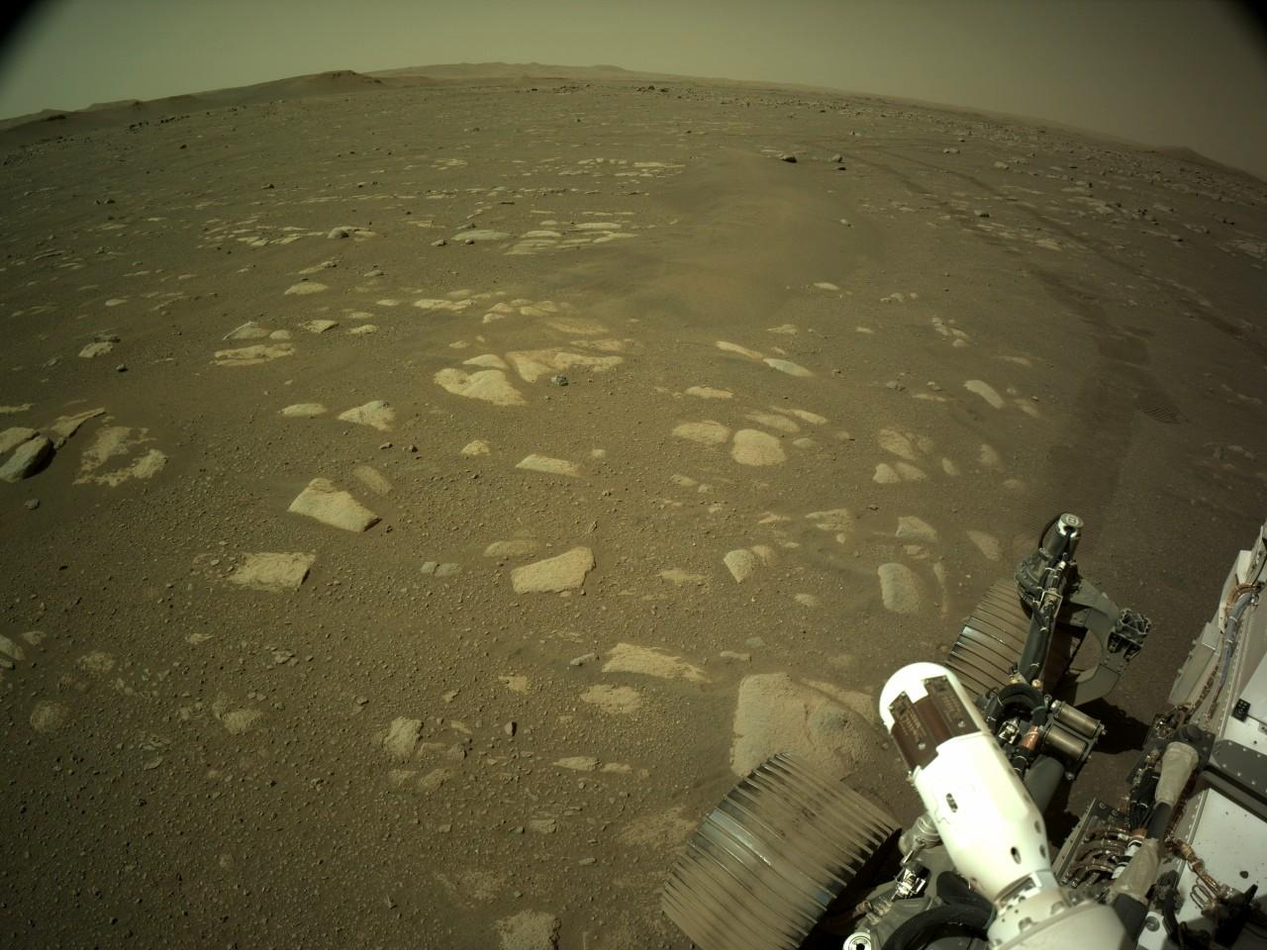bedrock: (4, 83, 1259, 934), (44, 936, 672, 949), (1254, 506, 1258, 929), (585, 896, 620, 923), (1017, 336, 1033, 345), (11, 678, 13, 735), (1254, 473, 1257, 497), (1253, 359, 1255, 392), (565, 938, 603, 939), (1253, 319, 1254, 356), (948, 300, 956, 304), (4, 948, 5, 949)
sand: (738, 162, 754, 165)
soil: (817, 167, 1253, 630), (6, 752, 457, 947), (988, 127, 1226, 179), (739, 140, 818, 157), (1256, 371, 1265, 503), (1, 570, 3, 947), (1093, 932, 1257, 935), (7, 567, 10, 654), (846, 206, 859, 215), (666, 934, 762, 935), (604, 935, 632, 937), (1254, 280, 1255, 303), (553, 940, 563, 942)
